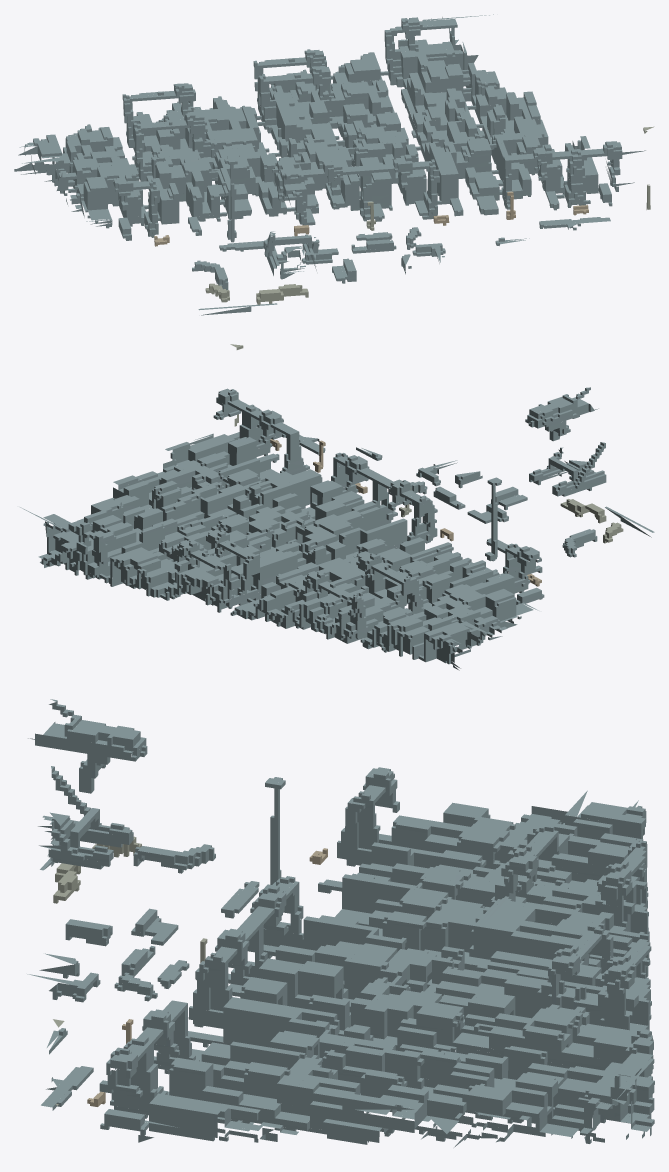
The picture shows the model from 3 angles, top to bottom: view 1: azimuth 30°, elevation 25°; view 2: azimuth 150°, elevation 25°; view 3: azimuth 270°, elevation 25°; orthographic projection. The views are drawn at different scales.
Visible parts, largest first — view 1: measured-industrial; view 2: measured-industrial; view 3: measured-industrial.
Boxes of the visible parts, x1,y1,x2,y2 form: measured-industrial: (14, 14, 654, 315); measured-industrial: (20, 344, 654, 670); measured-industrial: (27, 699, 654, 1147).
Size of the model in its own units: 286 by 72.43 by 223.
